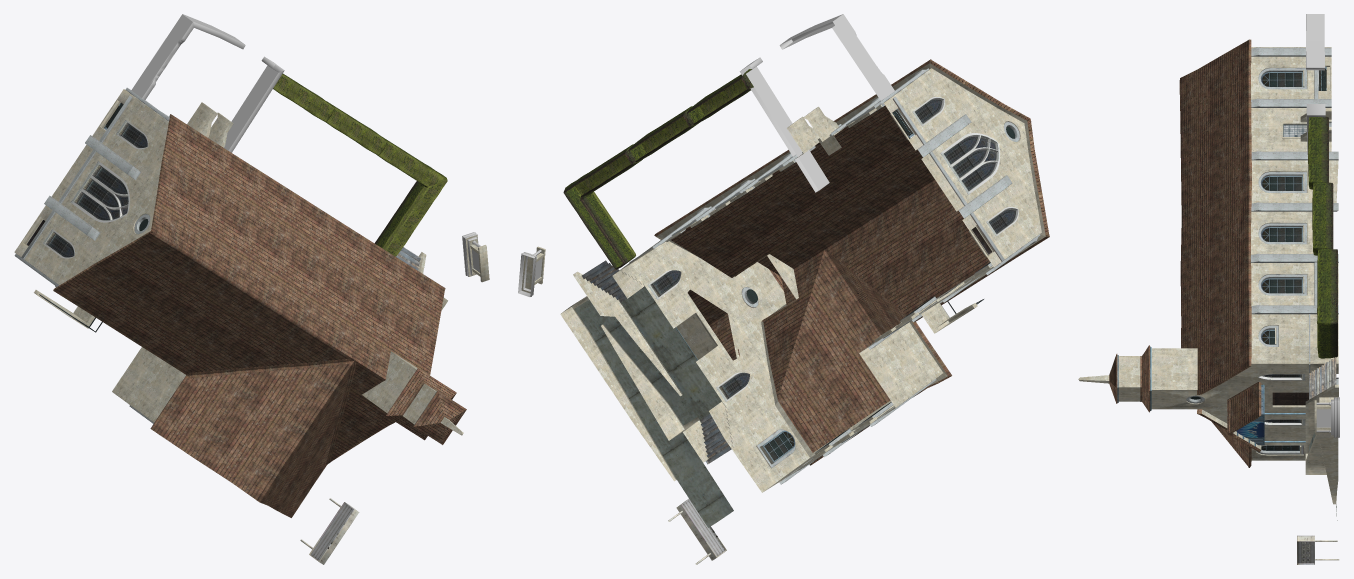
The model's file is Church.fbx.
The picture shows the model from 3 angles, left to right: view 1: azimuth 30°, elevation 25°; view 2: azimuth 150°, elevation 25°; view 3: azimuth 270°, elevation 25°; orthographic projection. The views are drawn at different scales.
Parts seen in each view (by area): view 1: sc1_12_church; view 2: sc1_12_church; view 3: sc1_12_church.
Part boxes in pixels (x1,y1,x2,y2): sc1_12_church: (14,14,489,564); sc1_12_church: (518,14,1049,564); sc1_12_church: (1078,14,1339,564).
Size of the model in its own units: 4194 by 4793 by 2287.
